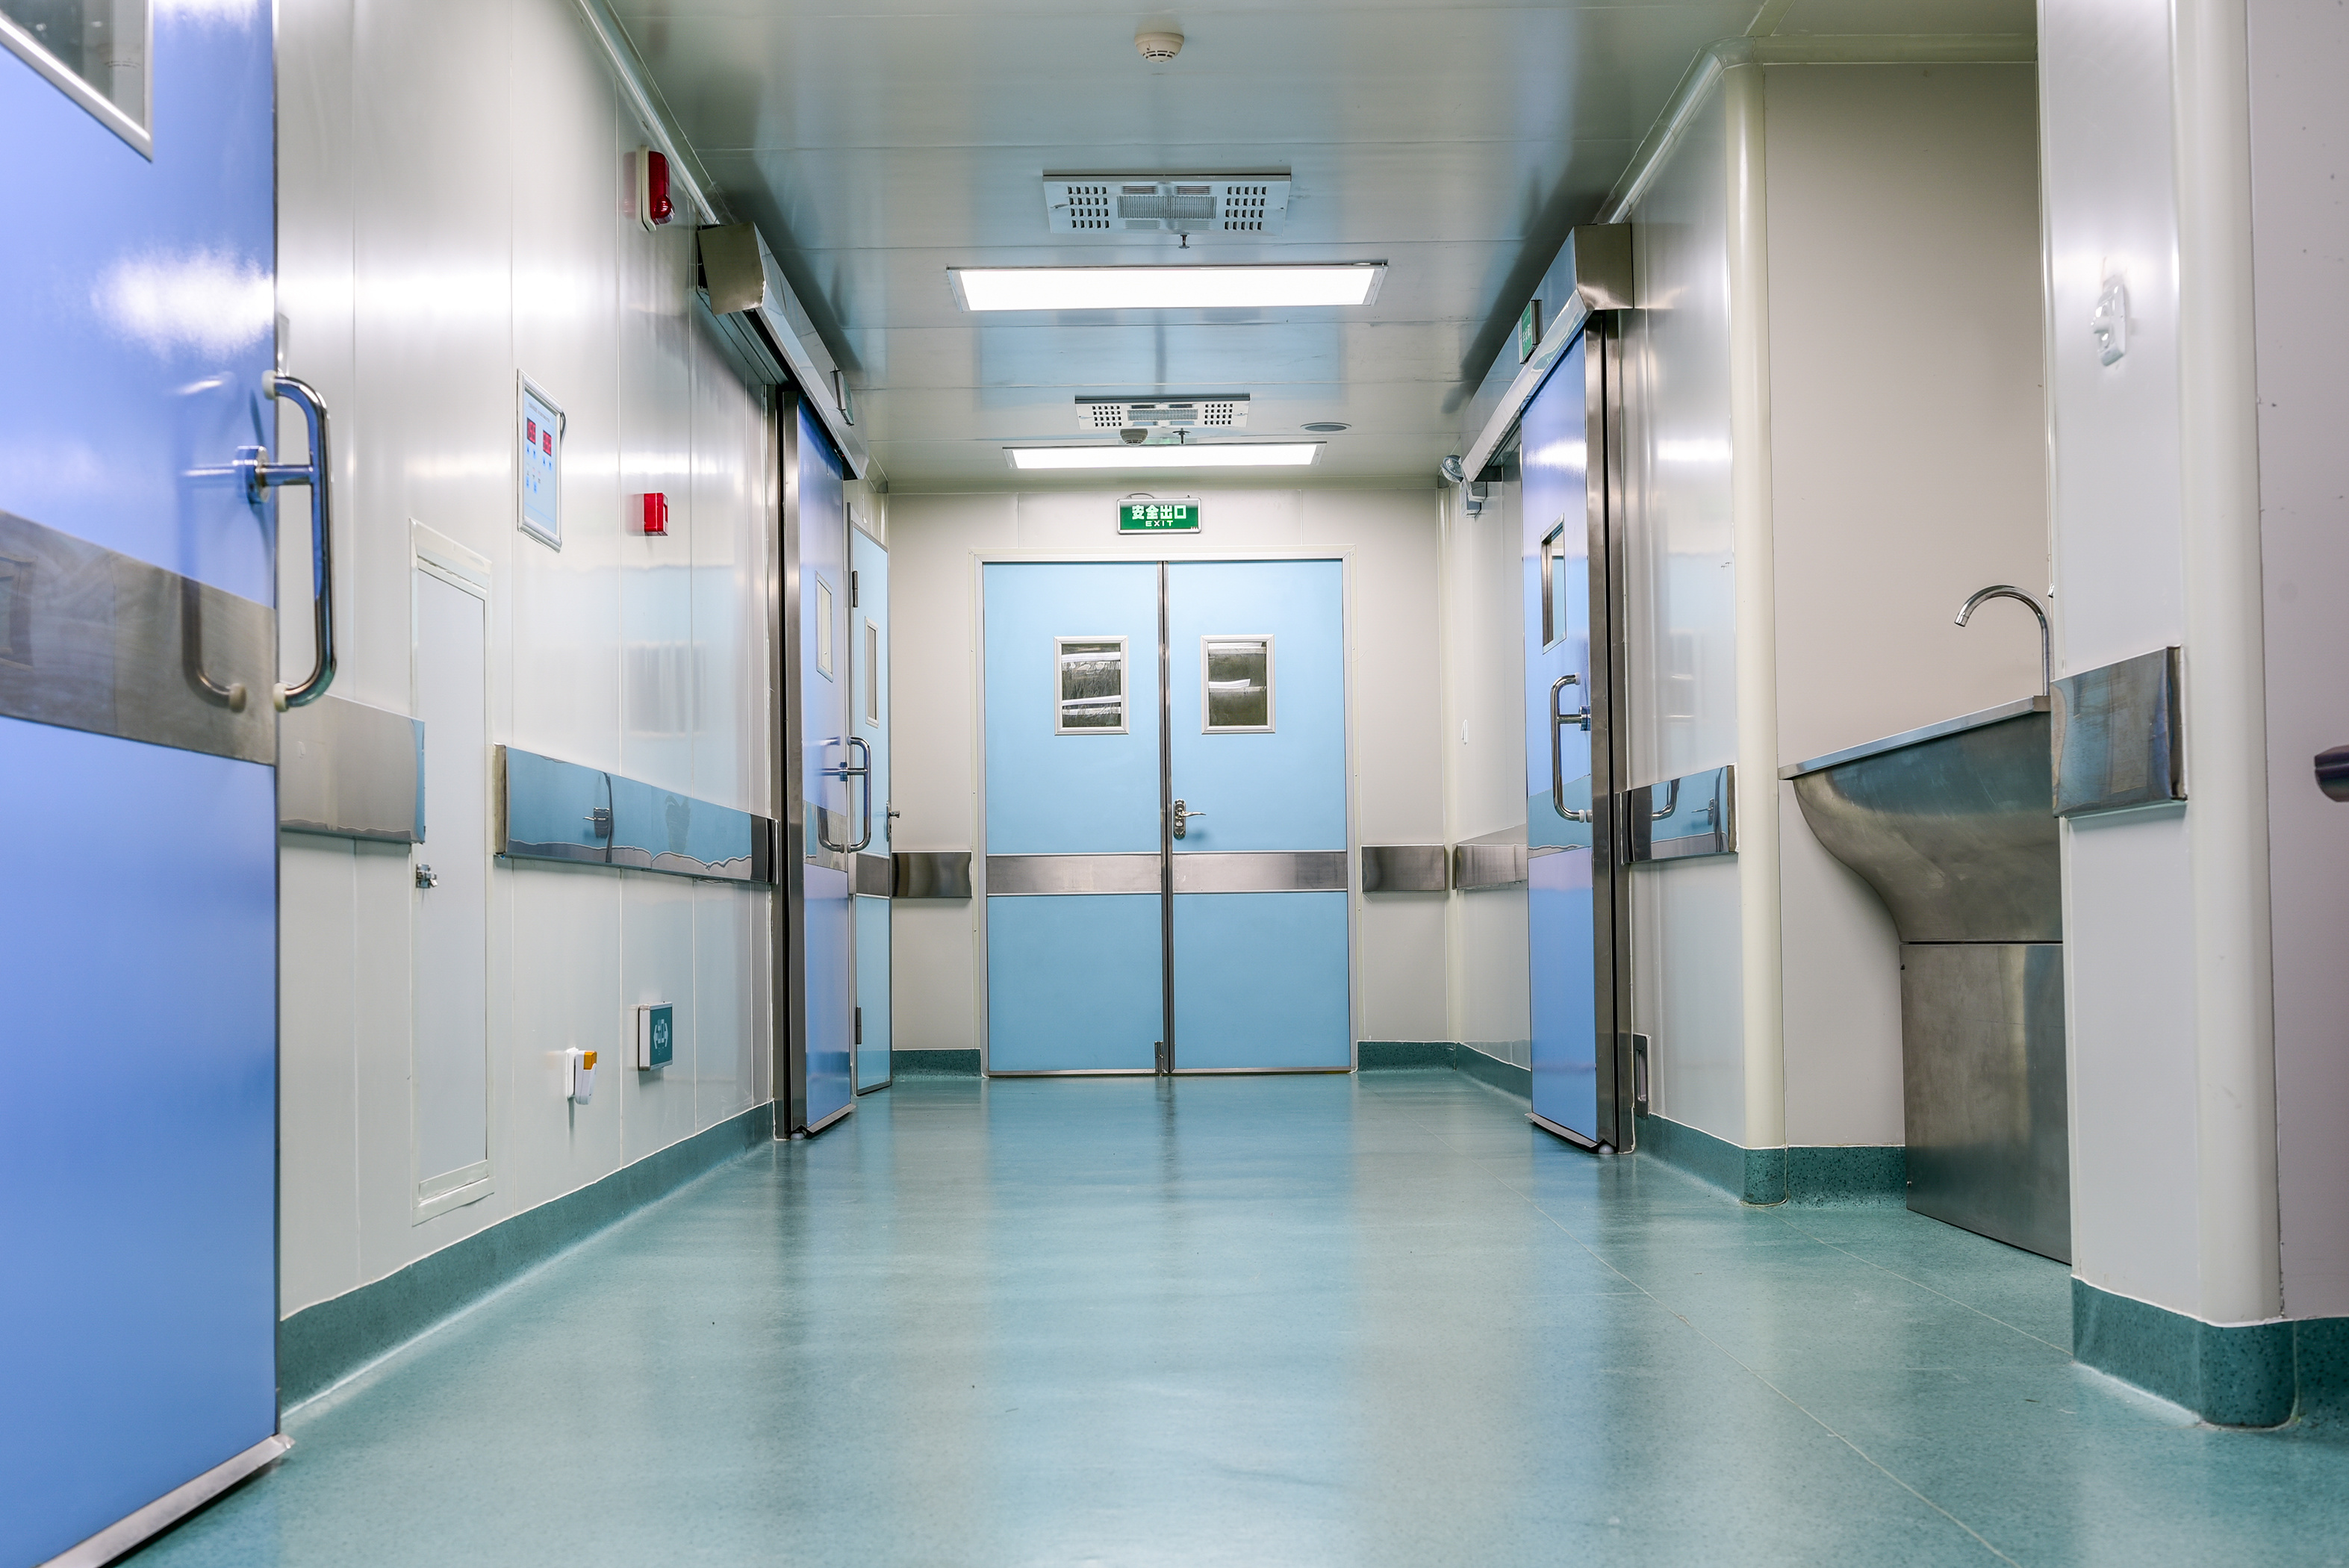door_handle: (255, 366, 343, 707), (1544, 674, 1593, 821), (850, 733, 878, 863), (1167, 794, 1205, 847)
faucet: (1952, 584, 2059, 696)
sink: (1774, 693, 2067, 948)
